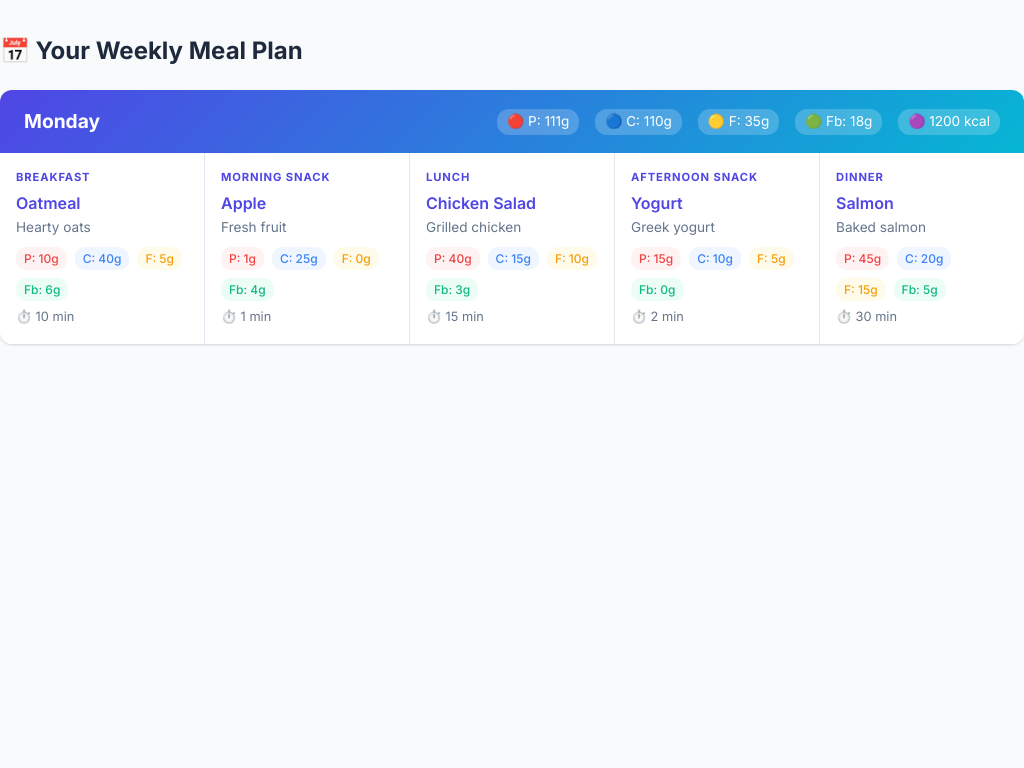
it: MealPlanDisplay › uses cached recipe on second click
# First click
Click the button "Oatmeal": (48, 203) [16,193,80,213]
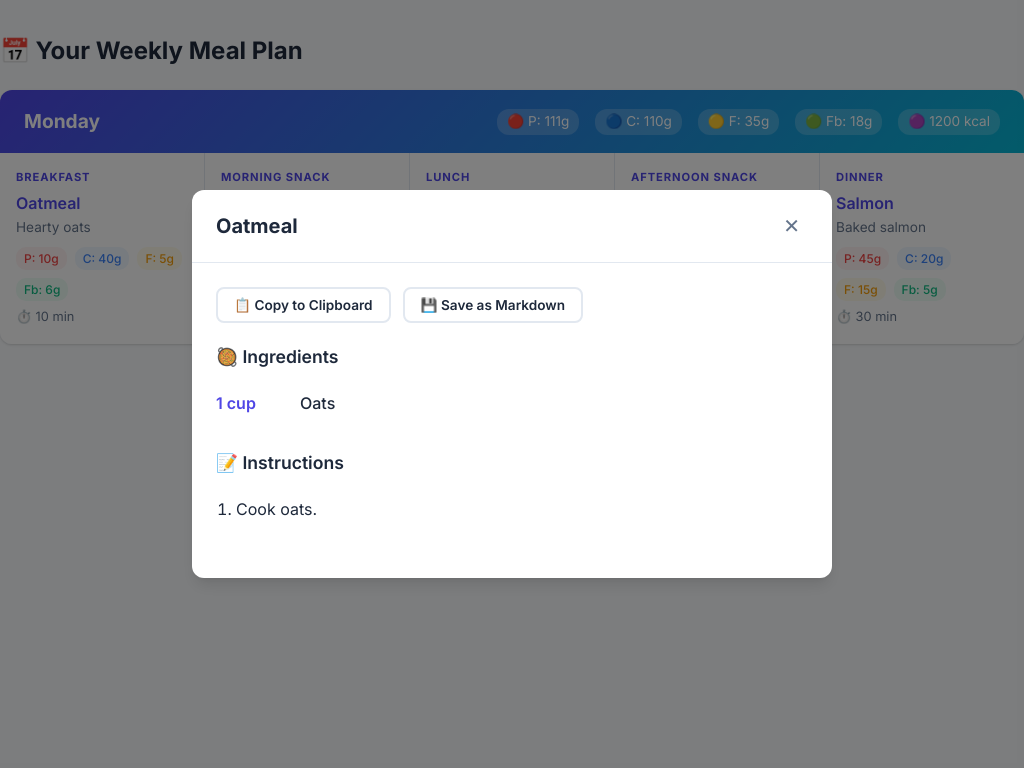
Expected: the list item "Cook oats." is shown, [236,499,317,519]
# Close modal
Click the button named "Close recipe modal": (792, 226) [775,210,808,242]
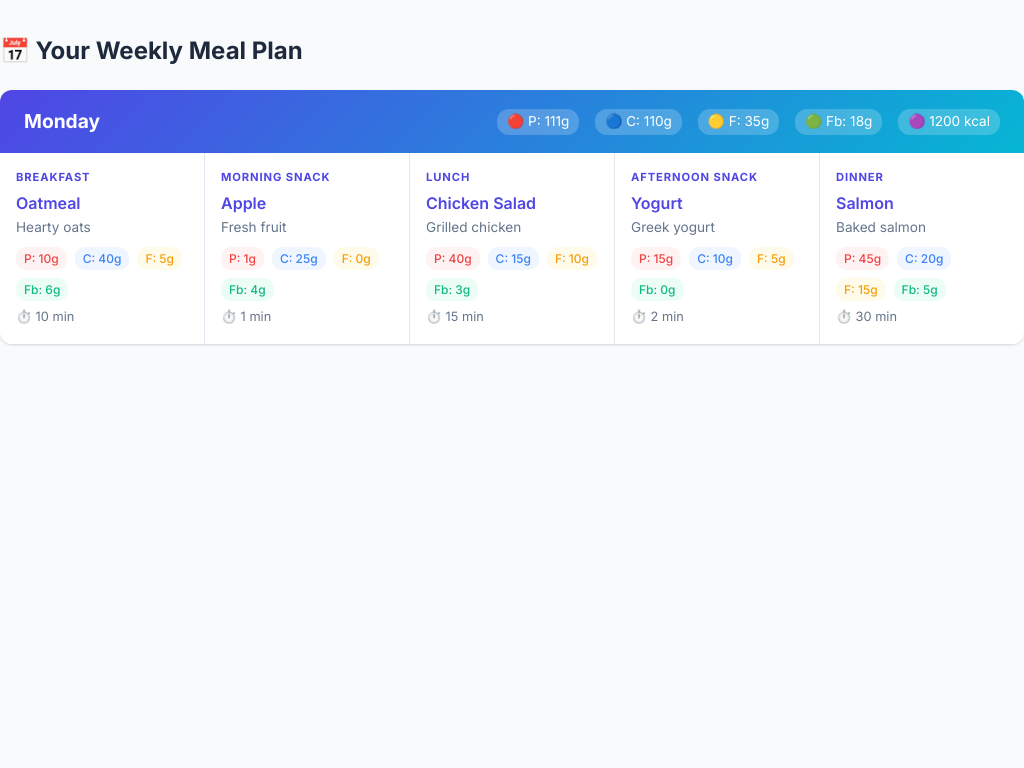
Expected: the dialog is gone
# Second click - should not call API again
Click the button "Oatmeal": (48, 203) [16,193,80,213]
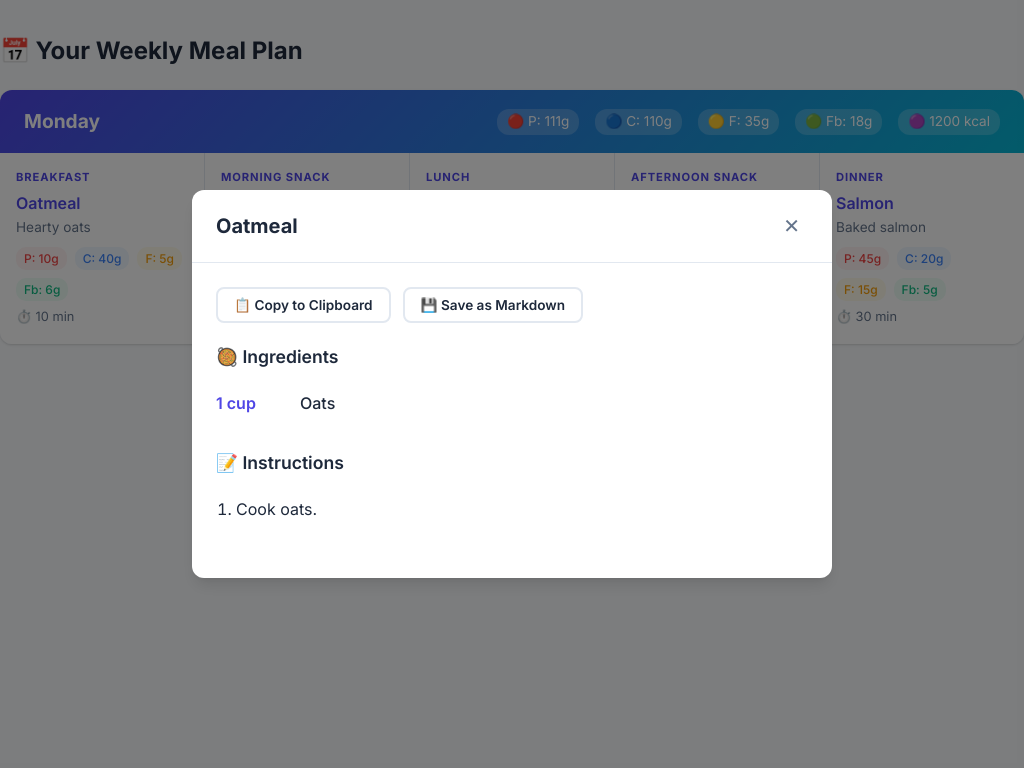
Expected: the list item "Cook oats." is shown, [236,499,317,519]
